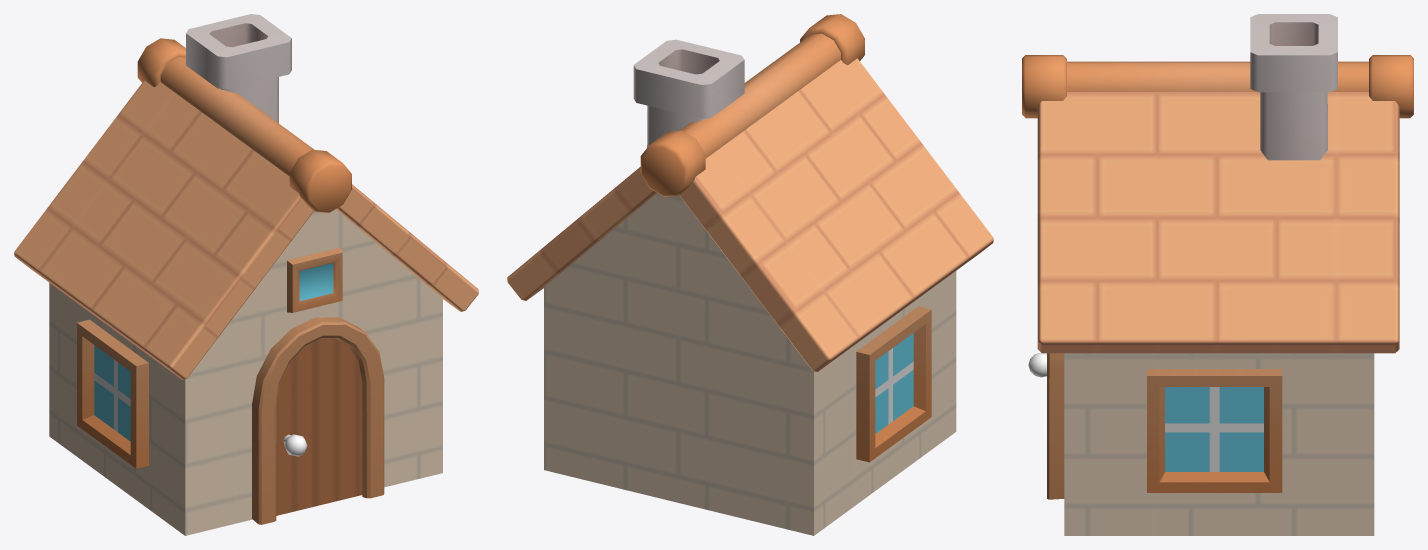
Rendered from House_L02.fbx.
The picture shows the model from 3 angles, left to right: view 1: azimuth 30°, elevation 25°; view 2: azimuth 150°, elevation 25°; view 3: azimuth 270°, elevation 25°; orthographic projection. The views are drawn at different scales.
Parts seen in each view (by area): view 1: House_L02, House_L02_Door; view 2: House_L02; view 3: House_L02.
Boxes of the visible parts, <box> form: House_L02: <box>14,14,478,535</box>; House_L02_Door: <box>276,338,362,515</box>; House_L02: <box>507,14,993,535</box>; House_L02: <box>1022,14,1413,535</box>.
Size of the model in its own units: 347 by 418 by 334.
